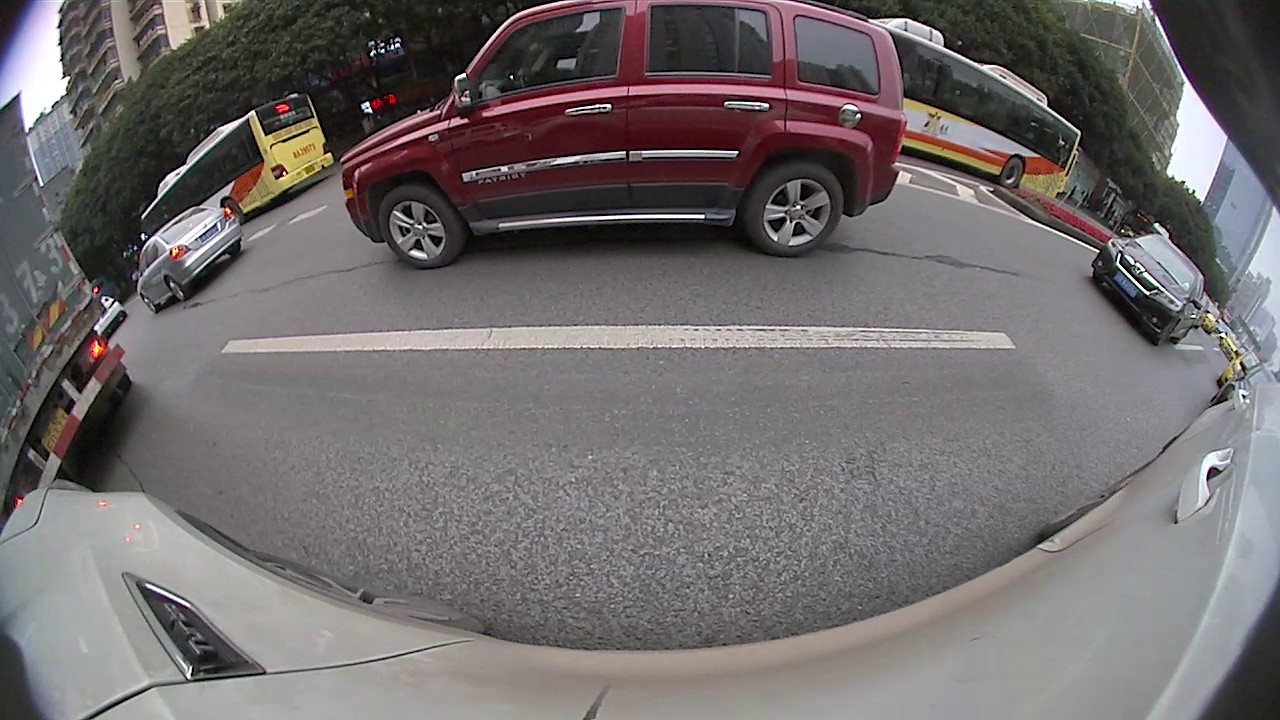bus: (870, 19, 1084, 202), (138, 89, 336, 237)
car: (340, 0, 904, 272), (1093, 236, 1206, 347), (134, 204, 244, 311)
front: (376, 184, 466, 263), (139, 293, 162, 310)
rear: (751, 151, 840, 253), (1003, 153, 1026, 191), (164, 278, 191, 303)
truck: (1, 90, 132, 499)
